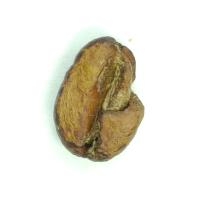NG: (93, 36, 145, 117), (62, 127, 116, 163)
